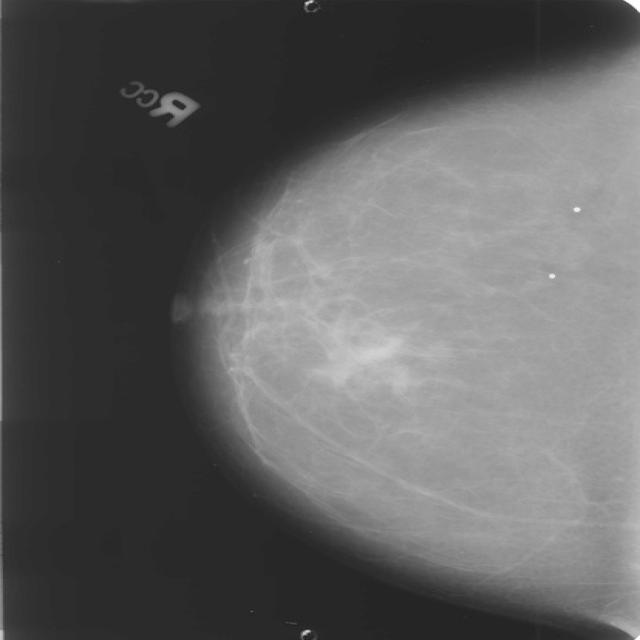tumour: (312, 327, 402, 384)
